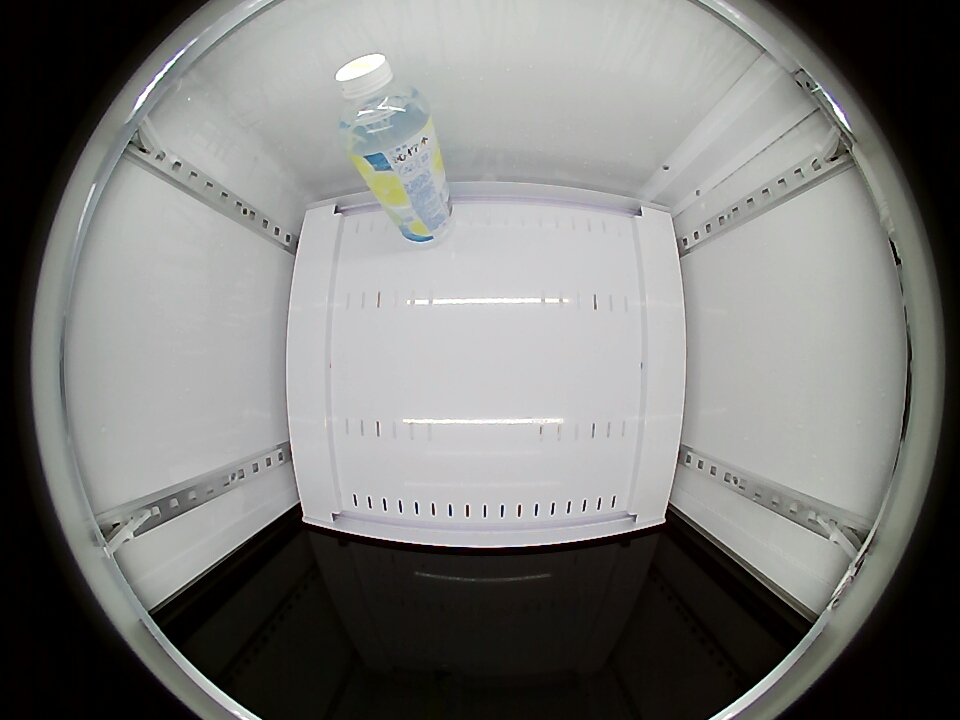qinningshui: (335, 51, 433, 159)
